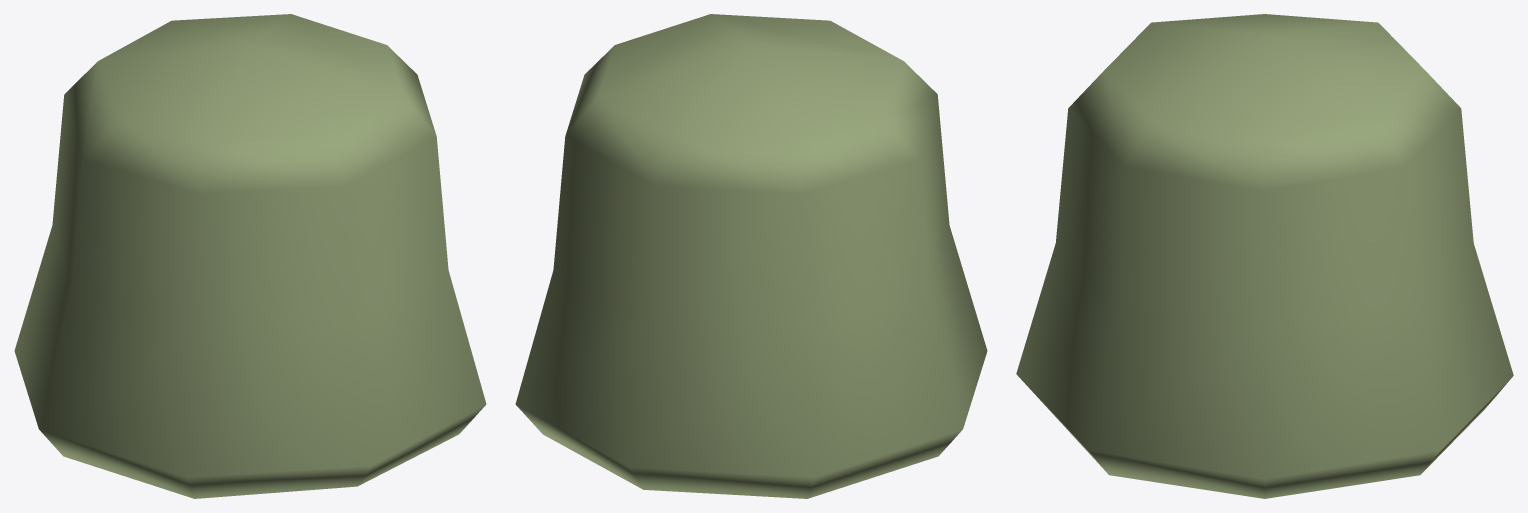
The model's file is googah.fbx.
The picture shows the model from 3 angles, left to right: view 1: azimuth 30°, elevation 25°; view 2: azimuth 150°, elevation 25°; view 3: azimuth 270°, elevation 25°; orthographic projection.
Visible parts, largest first — view 1: pPlane1; view 2: pPlane1; view 3: pPlane1.
Part boxes in pixels (x1=…): pPlane1: x1=14, y1=14, x2=486, y2=498; pPlane1: x1=515, y1=14, x2=987, y2=498; pPlane1: x1=1016, y1=14, x2=1513, y2=498.
Bounding box in the file's own units: 2.2 × 1.9 × 2.2.
